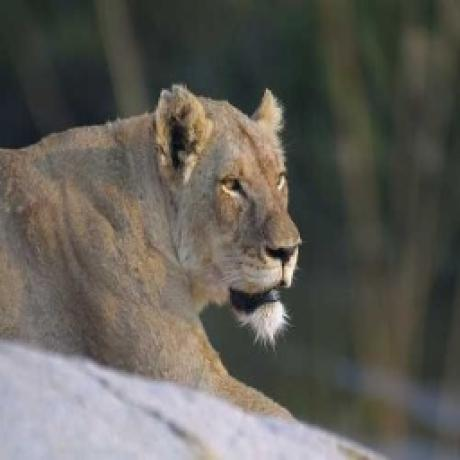Lion: (0, 79, 301, 425)
